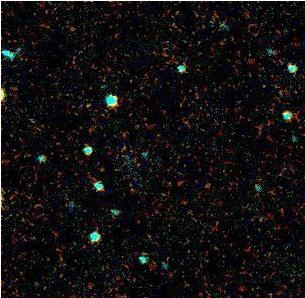star: (72, 89, 102, 119)
